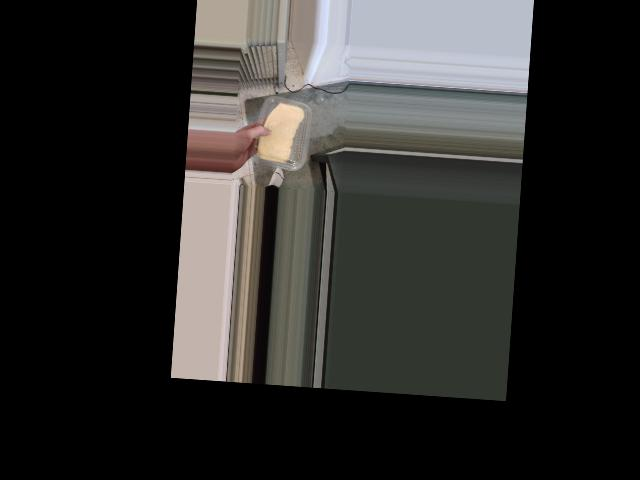cheese: (252, 96, 307, 170)
